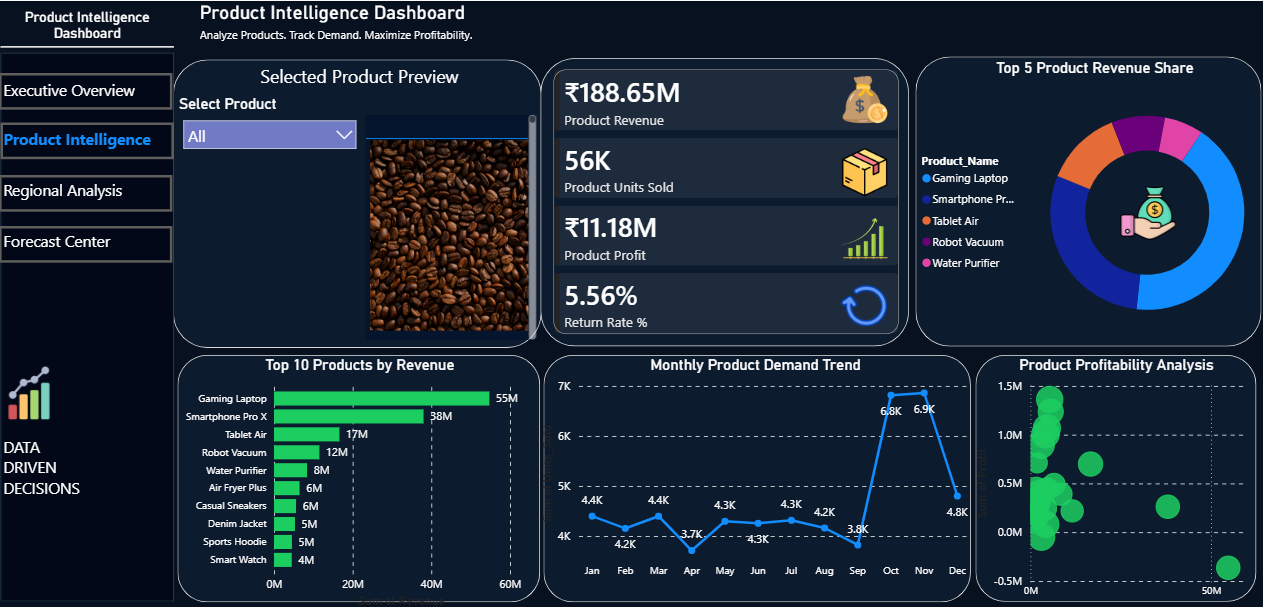

This screenshot's page, from the dashboard's own definition file:
{"tool":"powerbi","page":{"name":"PAGE 2","canvas":[1521,730],"ordinal":1},"visuals":[{"type":"shape","box":[208,70,442,346],"z":0},{"type":"shape","title":"Product Intelligence Dashboard","box":[2,0,208,720],"z":1000},{"type":"textbox","title":"Product Intelligence Dashboard","box":[236,0,886,62],"z":2000},{"type":"shape","box":[650,68,442,346],"z":3000},{"type":"shape","box":[1099,66,415,348],"z":4000},{"type":"shape","box":[215,424.4,435,296.7],"z":5000},{"type":"shape","box":[653.5,424.4,512.6,296.7],"z":6000},{"type":"shape","box":[1172,424,337,296],"z":7000},{"type":"textbox","box":[0,88,210,38],"z":8000},{"type":"textbox","box":[0,148,210,38],"z":9000},{"type":"textbox","box":[0,208,210,38],"z":10000},{"type":"textbox","box":[0,270,210,38],"z":11000},{"type":"textbox","box":[258,70,350,39],"z":12000},{"type":"cardVisual","fields":{"Data":["SalesTable.Product Revenue","SalesTable.Product Units Sold","SalesTable.Product Profit","SalesTable.Return Rate %"]},"box":[654,70,438,342],"z":13000},{"type":"donutChart","title":"Top 5 Product Revenue Share","fields":{"Category":["SalesTable.Product_Name"],"Y":["Sum(SalesTable.Revenue)"]},"box":[1106,70,416,342],"z":14000},{"type":"clusteredBarChart","title":"Top 10 Products by Revenue","fields":{"Category":["SalesTable.Product_Name"],"Y":["Sum(SalesTable.Revenue)"]},"box":[216,426,434,300],"z":15000},{"type":"lineChart","title":"Monthly Product Demand Trend","fields":{"Y":["Sum(SalesTable.Units_Sold)"],"Category":["SalesTable.Month_Name"]},"box":[650,426,516,270],"z":16000},{"type":"scatterChart","title":"Product Profitability Analysis","fields":{"X":["Sum(SalesTable.Revenue)"],"Y":["Sum(SalesTable.Profit)"],"Category":["SalesTable.Product_Name"],"Size":["CountNonNull(SalesTable.Year)"]},"box":[1172,426,338,294],"z":17000},{"type":"slicer","title":"Select Product","fields":{"Values":["SalesTable.Product_Name"]},"box":[215.9,112.7,217.8,78.9],"z":18000},{"type":"image","box":[1002.7,88.3,73.2,60.1],"z":19000},{"type":"image","box":[999,249.7,77,69.5],"z":20000},{"type":"image","box":[1009,177,58.2,58.2],"z":21000},{"type":"image","box":[983,337,110.8,58.2],"z":22000},{"type":"image","box":[1325,216,108.9,77],"z":23000},{"type":"tableEx","fields":{"Values":["SalesTable.Image_URL"]},"box":[433.8,131.4,215.9,279.8],"z":24000},{"type":"actionButton","box":[0,86,208,44],"z":25000},{"type":"actionButton","box":[2,146,208,44],"z":26000},{"type":"actionButton","box":[0,208,208,44],"z":27000},{"type":"actionButton","box":[0,270,208,44],"z":28000},{"type":"image","box":[0,386,72,166],"z":29000},{"type":"textbox","box":[0,516,122,162],"z":30000},{"type":"shape","box":[908,2,300,60],"z":31000}]}

Visuals, with their boxes in screenshot pixels (x1, y1, x2, y2), scaled from the page's 1521x730 canvas onto the 1263x607 screenshot:
shape: locate(173, 58, 540, 346)
"Product Intelligence Dashboard" shape: locate(2, 0, 174, 599)
"Product Intelligence Dashboard" textbox: locate(196, 0, 932, 52)
shape: locate(540, 57, 907, 344)
shape: locate(913, 55, 1257, 344)
shape: locate(179, 353, 540, 600)
shape: locate(543, 353, 968, 600)
shape: locate(973, 353, 1253, 599)
textbox: locate(0, 73, 174, 105)
textbox: locate(0, 123, 174, 155)
textbox: locate(0, 173, 174, 205)
textbox: locate(0, 225, 174, 256)
textbox: locate(214, 58, 505, 91)
cardVisual - SalesTable.Product Revenue x SalesTable.Product Units Sold: locate(543, 58, 907, 343)
"Top 5 Product Revenue Share" donutChart: locate(918, 58, 1262, 343)
"Top 10 Products by Revenue" clusteredBarChart: locate(179, 354, 540, 604)
"Monthly Product Demand Trend" lineChart: locate(540, 354, 968, 579)
"Product Profitability Analysis" scatterChart: locate(973, 354, 1254, 599)
"Select Product" slicer: locate(179, 94, 360, 159)
image: locate(833, 73, 893, 123)
image: locate(830, 208, 893, 265)
image: locate(838, 147, 886, 196)
image: locate(816, 280, 908, 329)
image: locate(1100, 180, 1191, 244)
tableEx - SalesTable.Image_URL: locate(360, 109, 539, 342)
actionButton: locate(0, 72, 173, 108)
actionButton: locate(2, 121, 174, 158)
actionButton: locate(0, 173, 173, 210)
actionButton: locate(0, 225, 173, 261)
image: locate(0, 321, 60, 459)
textbox: locate(0, 429, 101, 564)
shape: locate(754, 2, 1003, 52)
